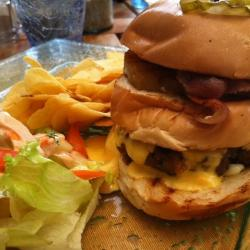burger: (115, 1, 250, 220)
fries: (11, 53, 119, 136)
salad: (2, 139, 98, 250)
